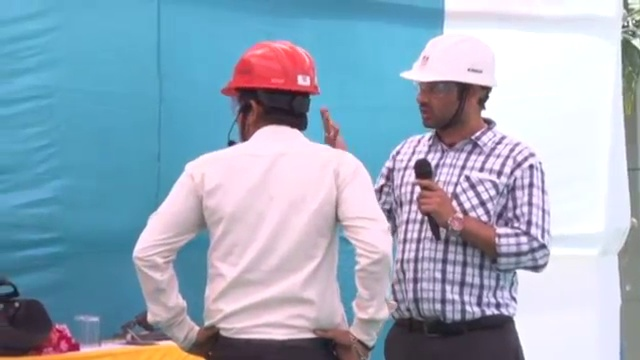helmet: (397, 32, 499, 92), (219, 39, 322, 98)
helmet_on: (396, 32, 500, 139), (218, 39, 322, 140)
person: (129, 40, 395, 360), (375, 32, 553, 360)
